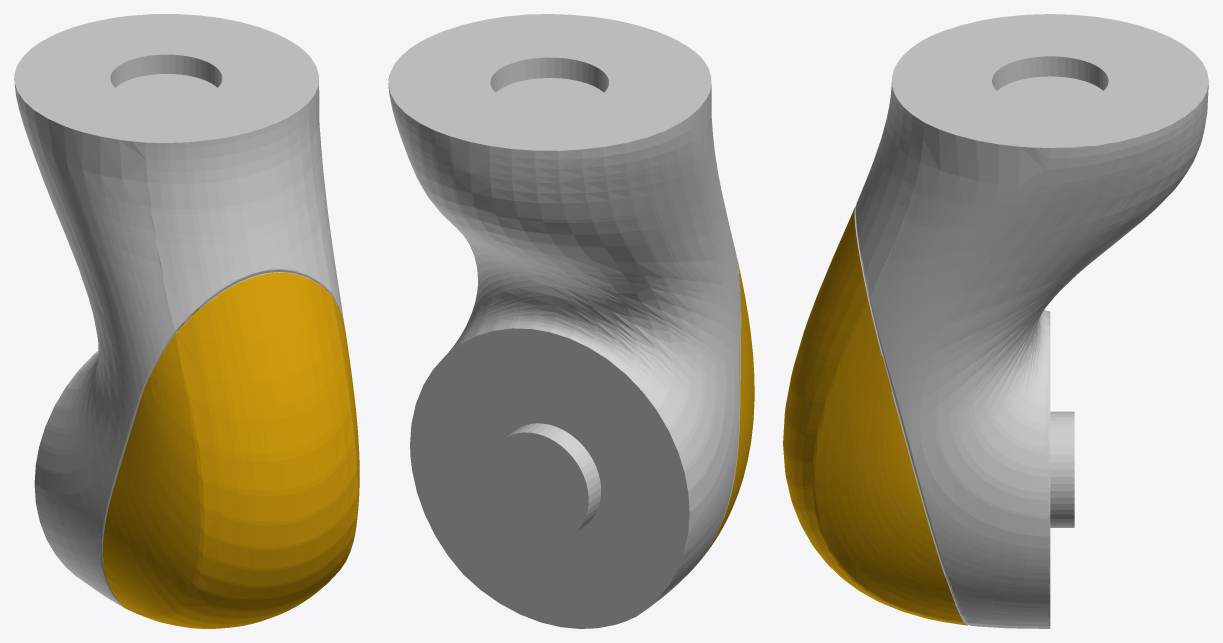
3 renders of one model, left to right at view 1: azimuth 30°, elevation 25°; view 2: azimuth 150°, elevation 25°; view 3: azimuth 270°, elevation 25°, orthographic. The views are drawn at different scales.
Visible parts, largest first — view 1: node0_001; view 2: node0_001; view 3: node0_001.
Part boxes in pixels (<box>): node0_001: <box>14,14,359,628</box>; node0_001: <box>388,14,754,628</box>; node0_001: <box>783,14,1208,628</box>.
Size of the model in its own units: 0.136 by 0.1826 by 0.252.
